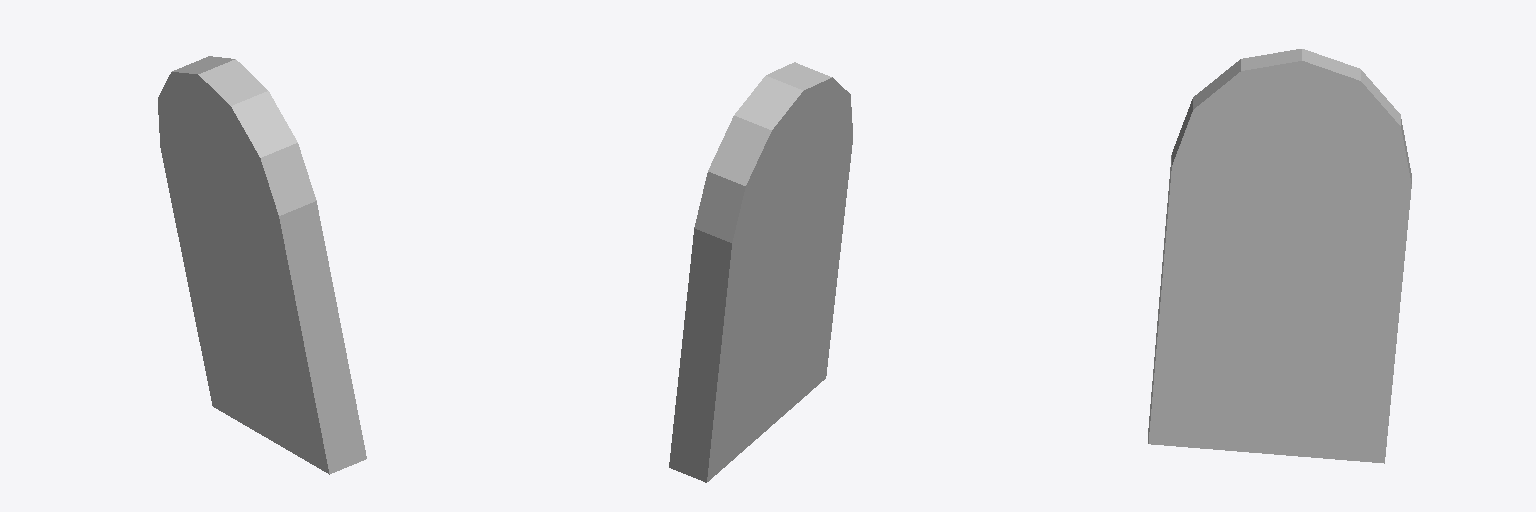
File: Tumba2.obj
3 renders of one model, left to right at view 1: azimuth 30°, elevation 25°; view 2: azimuth 150°, elevation 25°; view 3: azimuth 270°, elevation 25°, orthographic.
Visible parts, largest first — view 1: polySurface38 chapel_obj:Chapel; view 2: polySurface38 chapel_obj:Chapel; view 3: polySurface38 chapel_obj:Chapel.
Boxes of the visible parts, x1=… form: polySurface38 chapel_obj:Chapel: x1=158, y1=56, x2=366, y2=474; polySurface38 chapel_obj:Chapel: x1=669, y1=62, x2=852, y2=482; polySurface38 chapel_obj:Chapel: x1=1148, y1=49, x2=1411, y2=463.
Bounding box in the file's own units: 0.1357 × 0.5307 × 0.332.